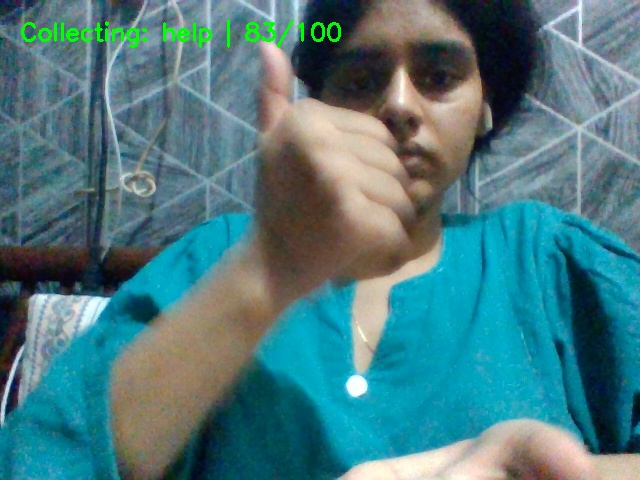help: (241, 28, 559, 480)
